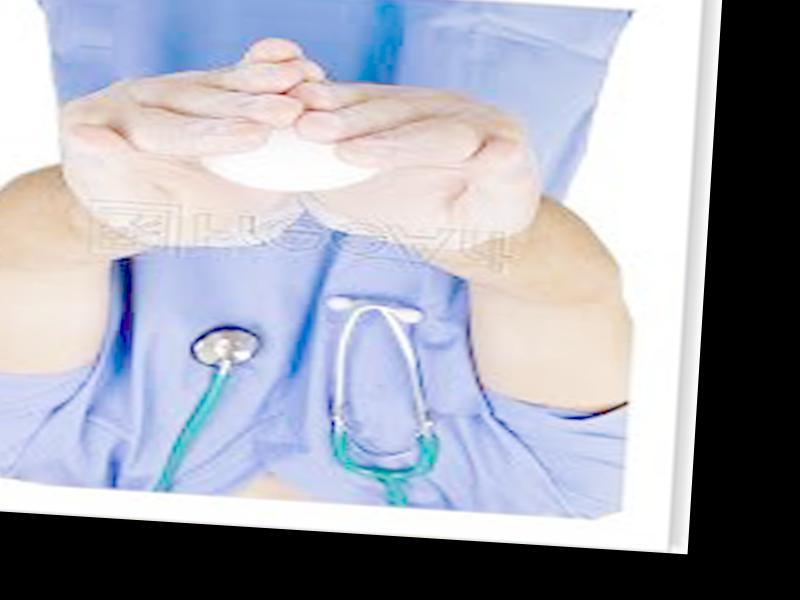Eggs: (204, 118, 382, 197)
